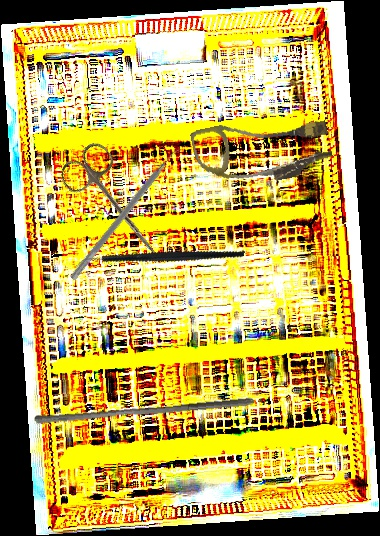Cannula: (189, 103, 336, 197)
Chopper: (74, 202, 246, 319)
Iris Scissors: (54, 137, 180, 272)
Pusher: (33, 388, 256, 433)
Spatula Surgical: (69, 143, 186, 286)
